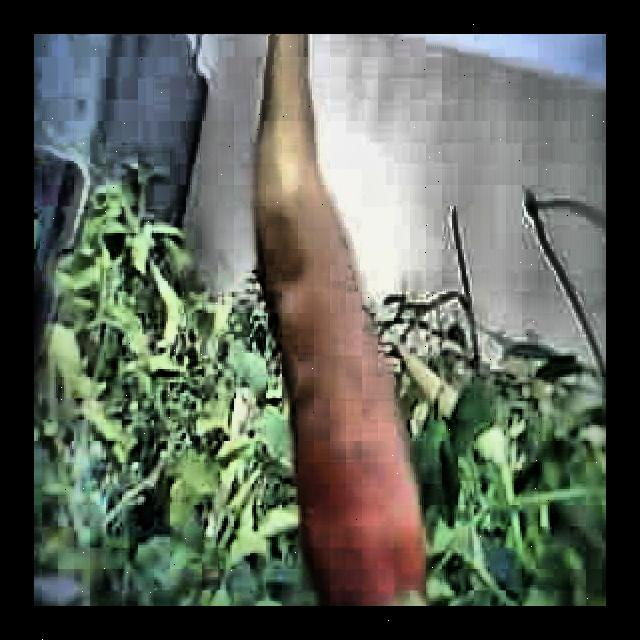Cabai: (258, 34, 426, 593)
